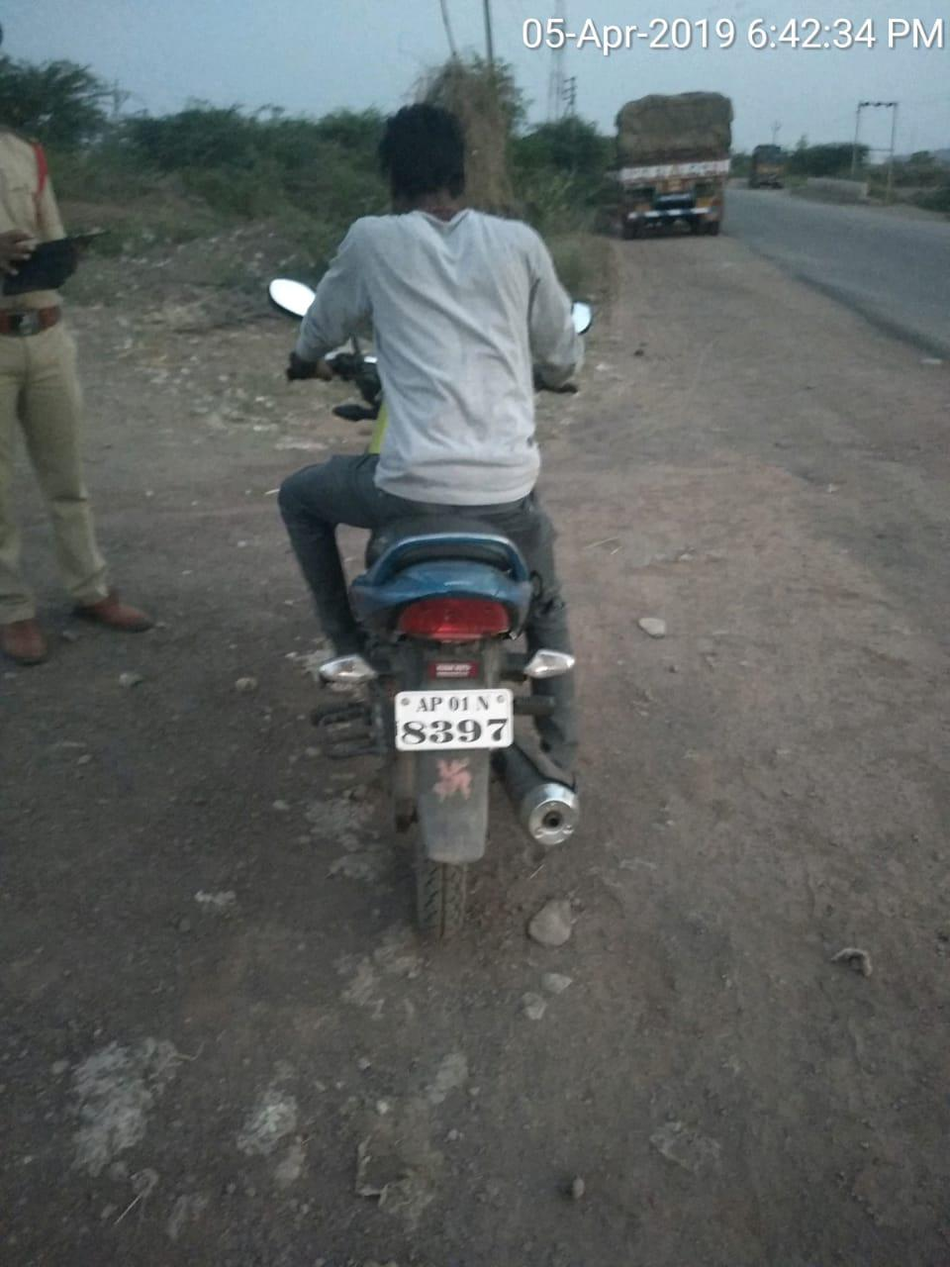plate: (380, 672, 546, 768)
